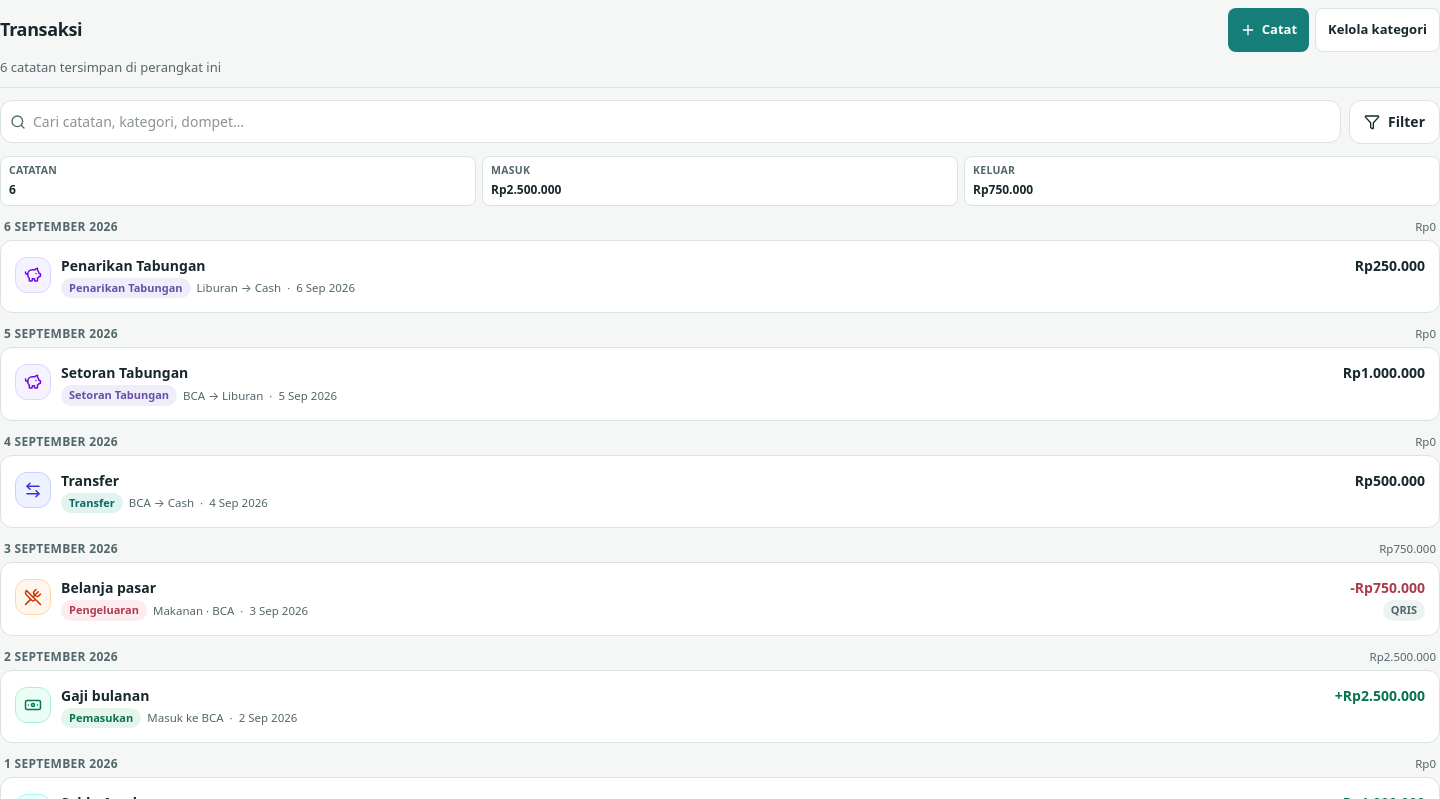
Transactions Phase 2C UX › filters by transaction type and resets active filters
Click the button "Filter" at (1395, 122), box [1349, 100, 1439, 144]
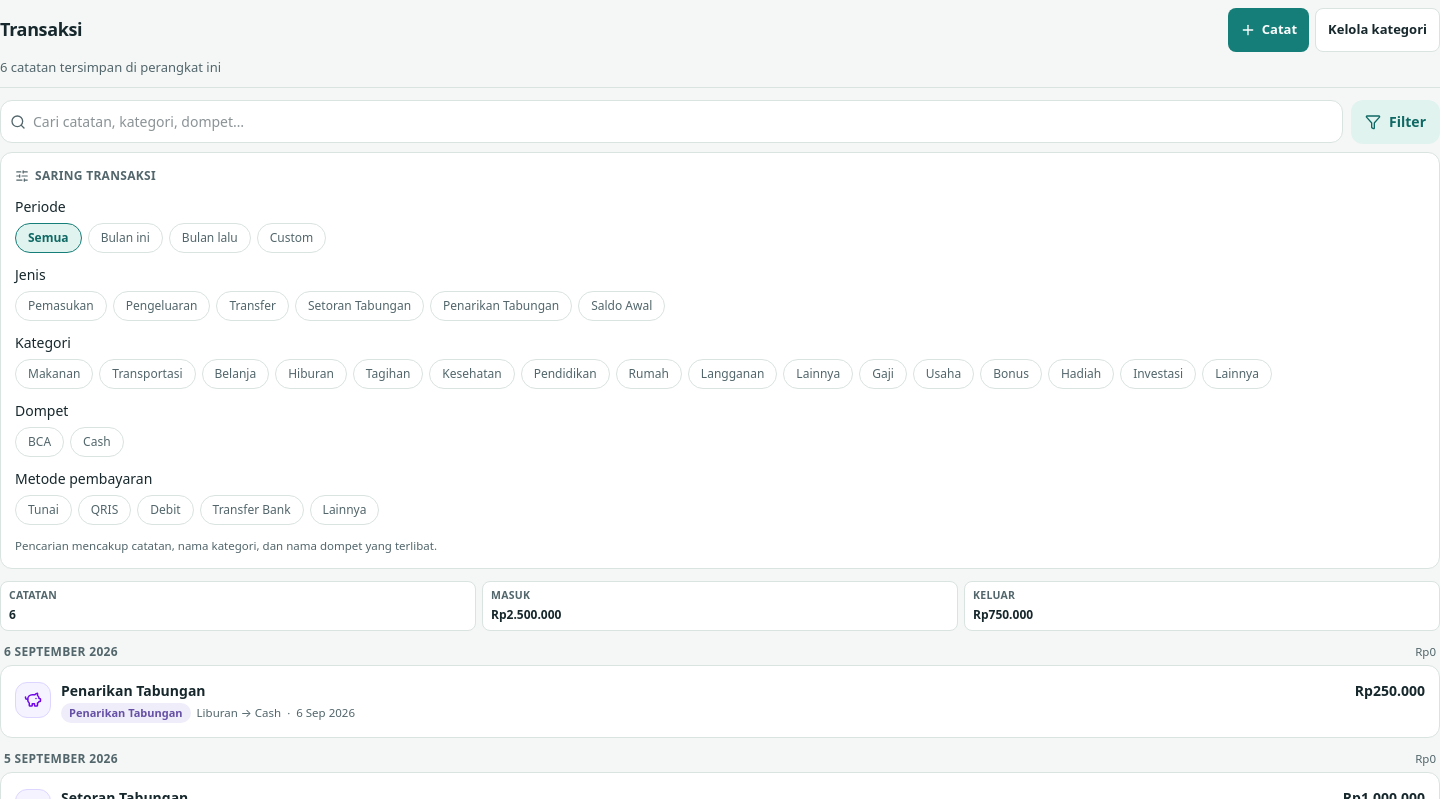
Click the button "Transfer" at (253, 306), box [216, 291, 289, 321]
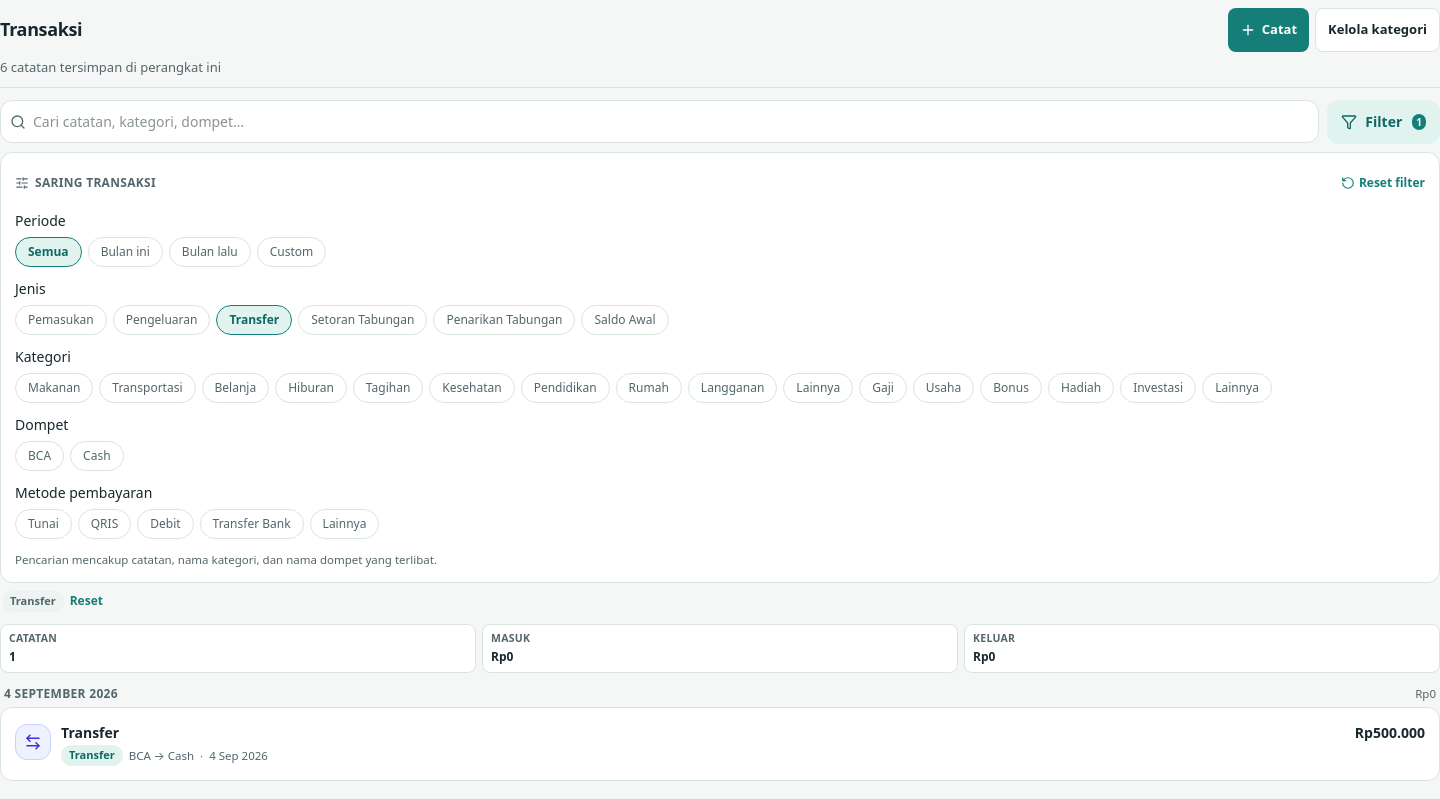
Expected: the text "BCA → Cash" is shown, [129, 747, 194, 764]
Expected: the text "Saring transaksi" is shown, [35, 174, 156, 191]
Click the button "Reset filter" at (1383, 183), box [1341, 167, 1425, 199]
(page scrolled)
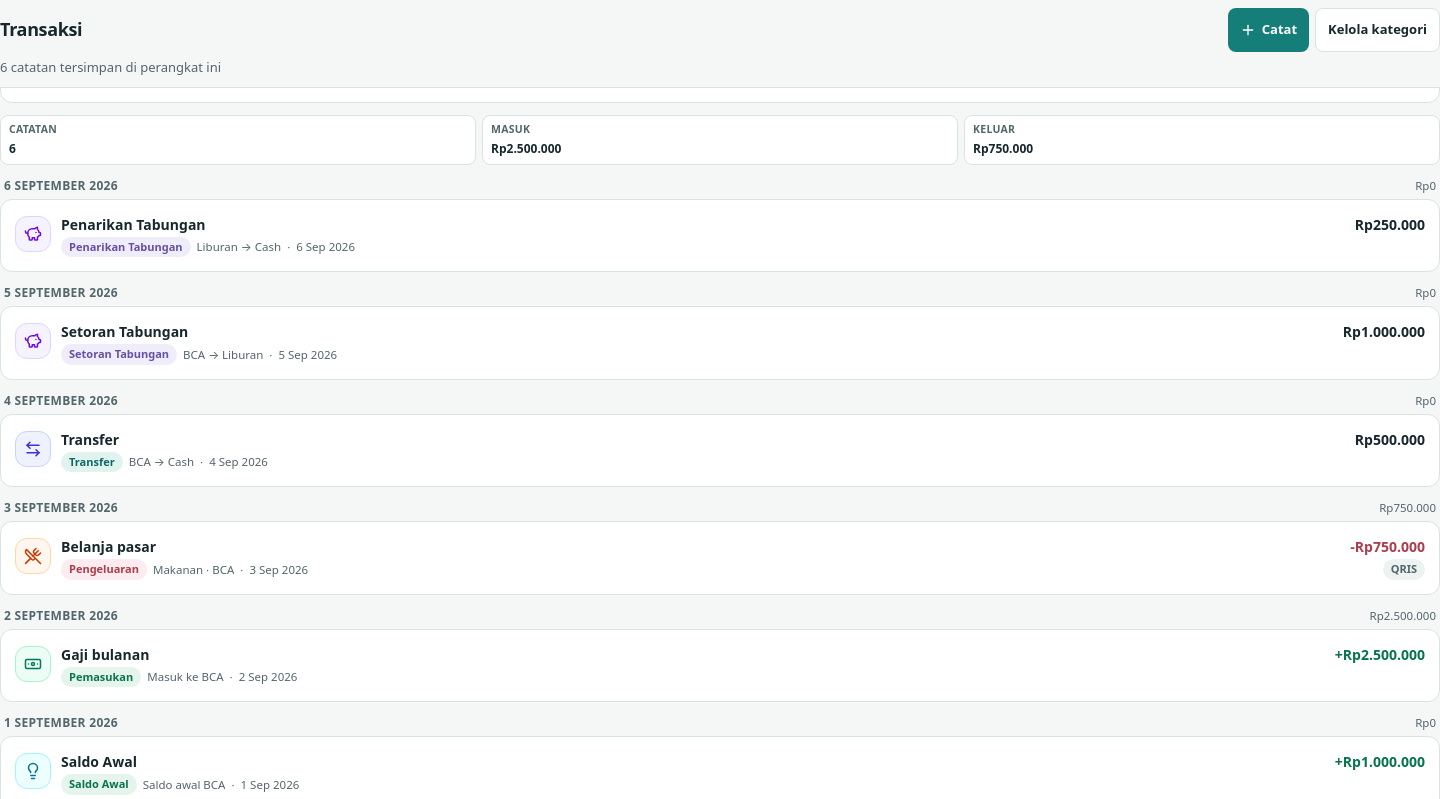
Expected: the text "Belanja pasar" is shown, [61, 536, 156, 557]
